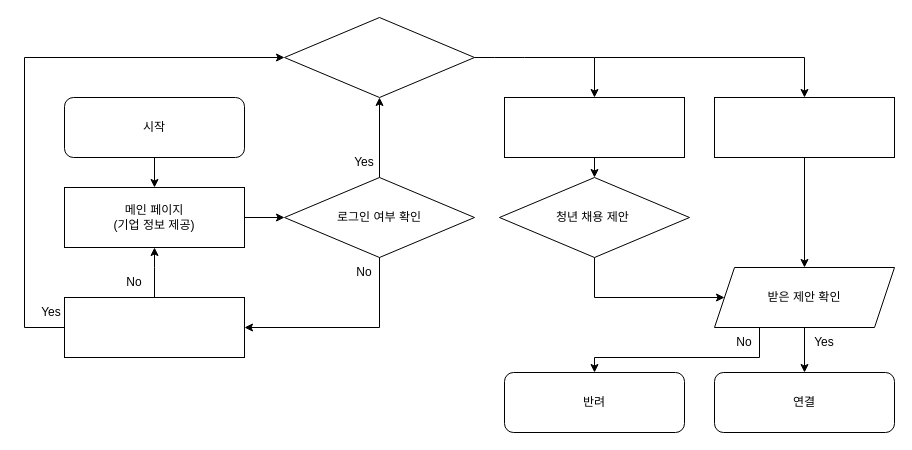
Image size: 912x450. Some labels were removed from this diagram. The shapes that lost their labels are listed below. From the top down, each one's centre as x and y in pixels, then its label:
At (x=379, y=57): "기업/청년 확인".
At (x=594, y=127): "<기업> 청년 정보 열람".
At (x=804, y=127): "<청년> 프로필 등록".
At (x=154, y=327): "회원가입".
